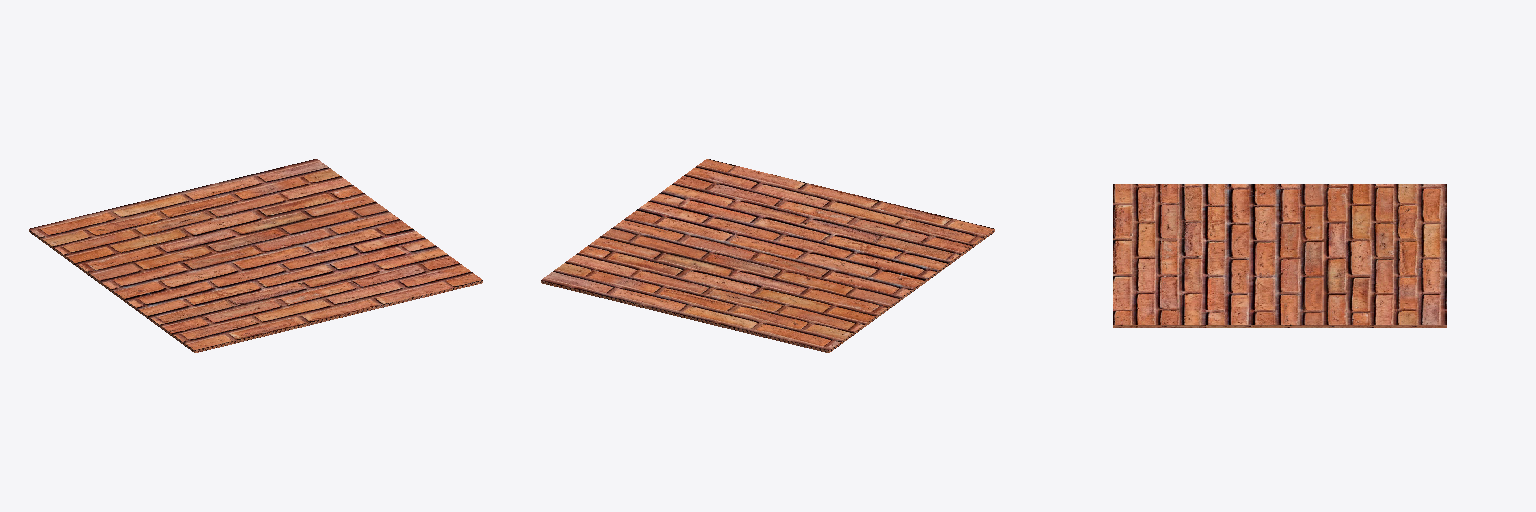
The picture shows the model from 3 angles: view 1: azimuth 30°, elevation 25°; view 2: azimuth 150°, elevation 25°; view 3: azimuth 270°, elevation 25°; orthographic projection.
Visible parts, largest first — view 1: Box001; view 2: Box001; view 3: Box001.
Part boxes in pixels (x1,y1,x2,y2): Box001: (29, 159, 482, 352); Box001: (541, 159, 994, 352); Box001: (1113, 184, 1446, 327).
Bounding box in the file's own units: 20 × 0.1787 × 20.
1 materials, 1 textured.